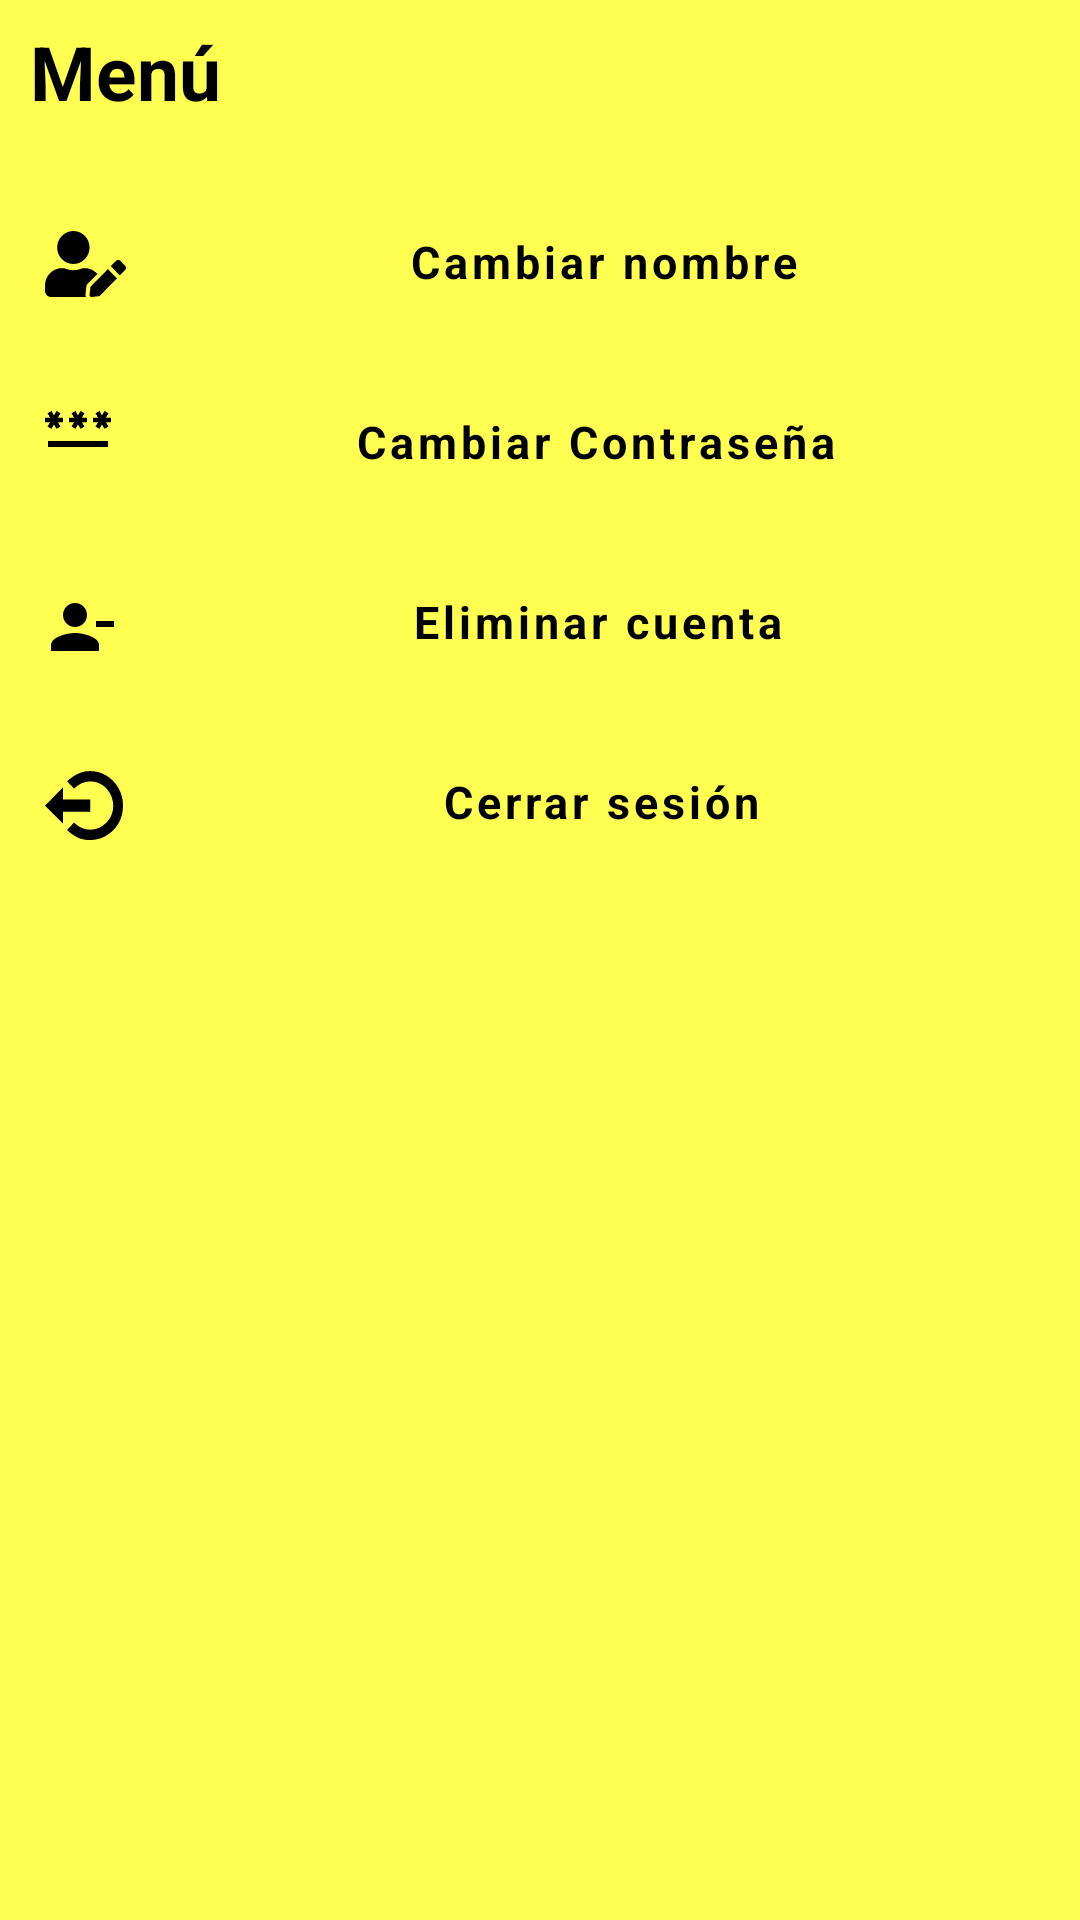

Locate icon controls on the screen. Image size 1080x1920, boxes as (x1, y1, x2, y2).
changepassword: (45, 411, 111, 447)
edit: (45, 231, 126, 297)
remove: (51, 603, 114, 651)
